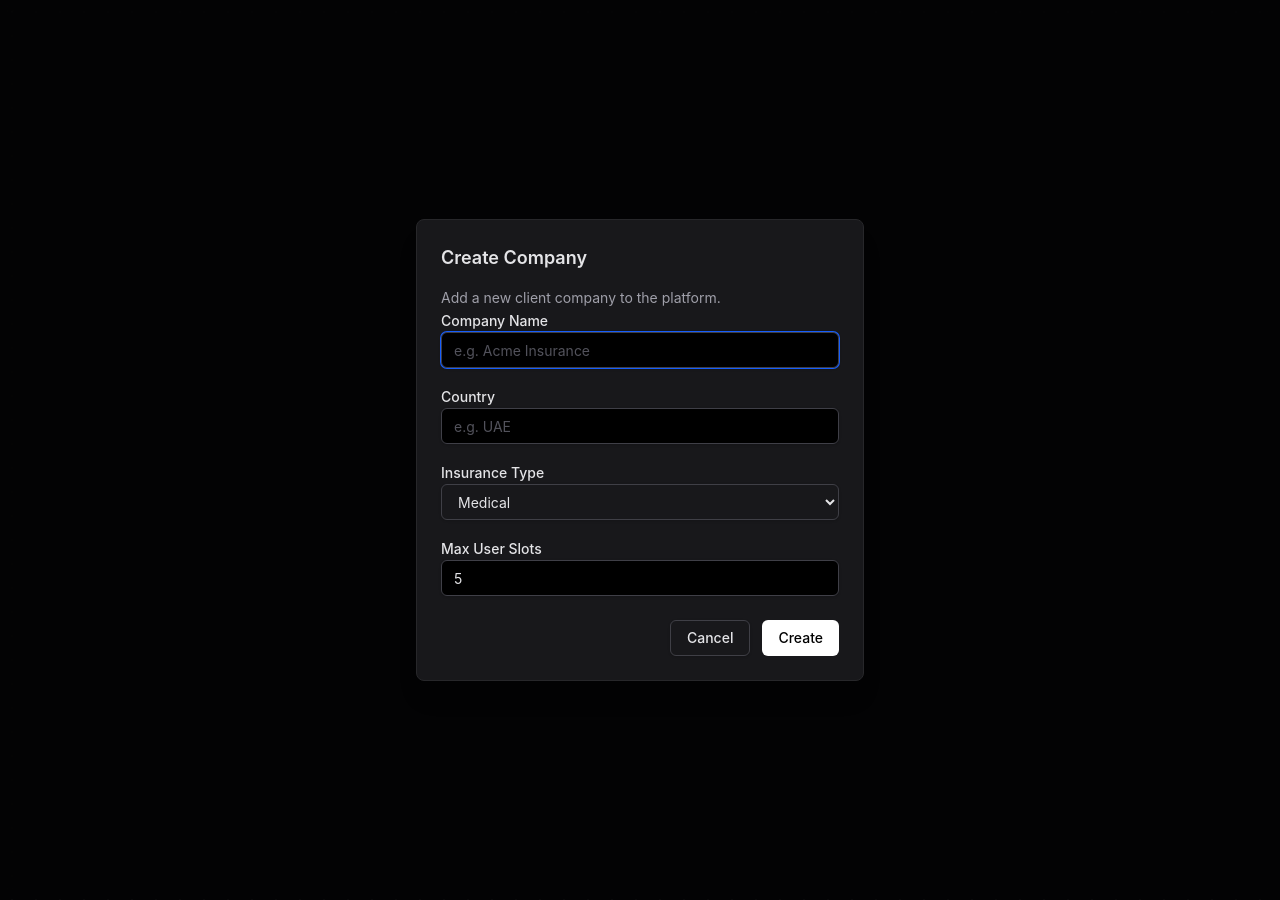
M3-3.E.2 - Admin regression scenarios › Admin dialog lifecycle (CreateCompanyDialog) › does not close dialog on submission failure (stays open for correction)
The image size is (1280, 900).
Type "Test Corp" into the field with placeholder "e.g. Acme Insurance" at (640, 350), box [441,332,839,368]
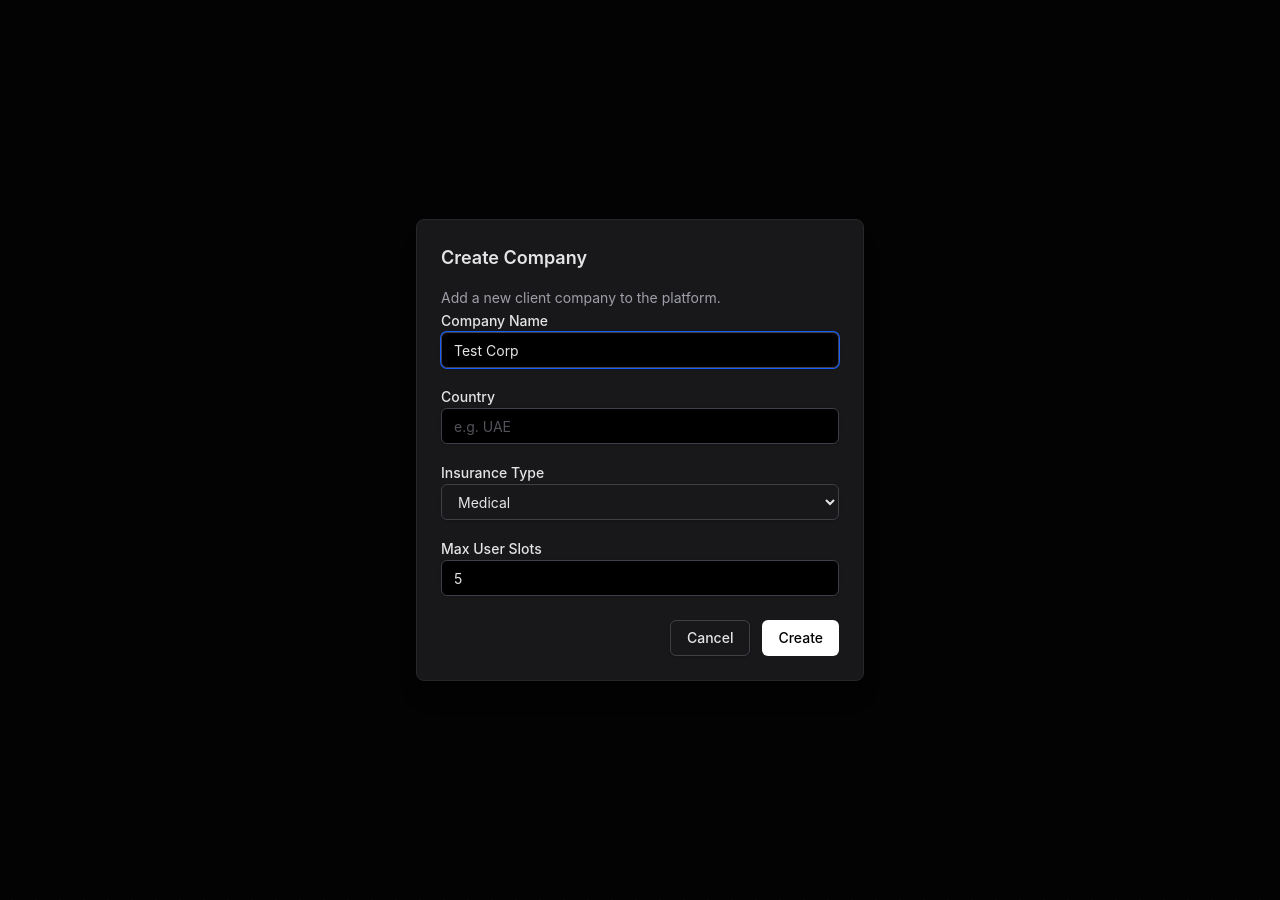
Type "UAE" into the field with placeholder "e.g. UAE" at (640, 426), box [441,408,839,444]
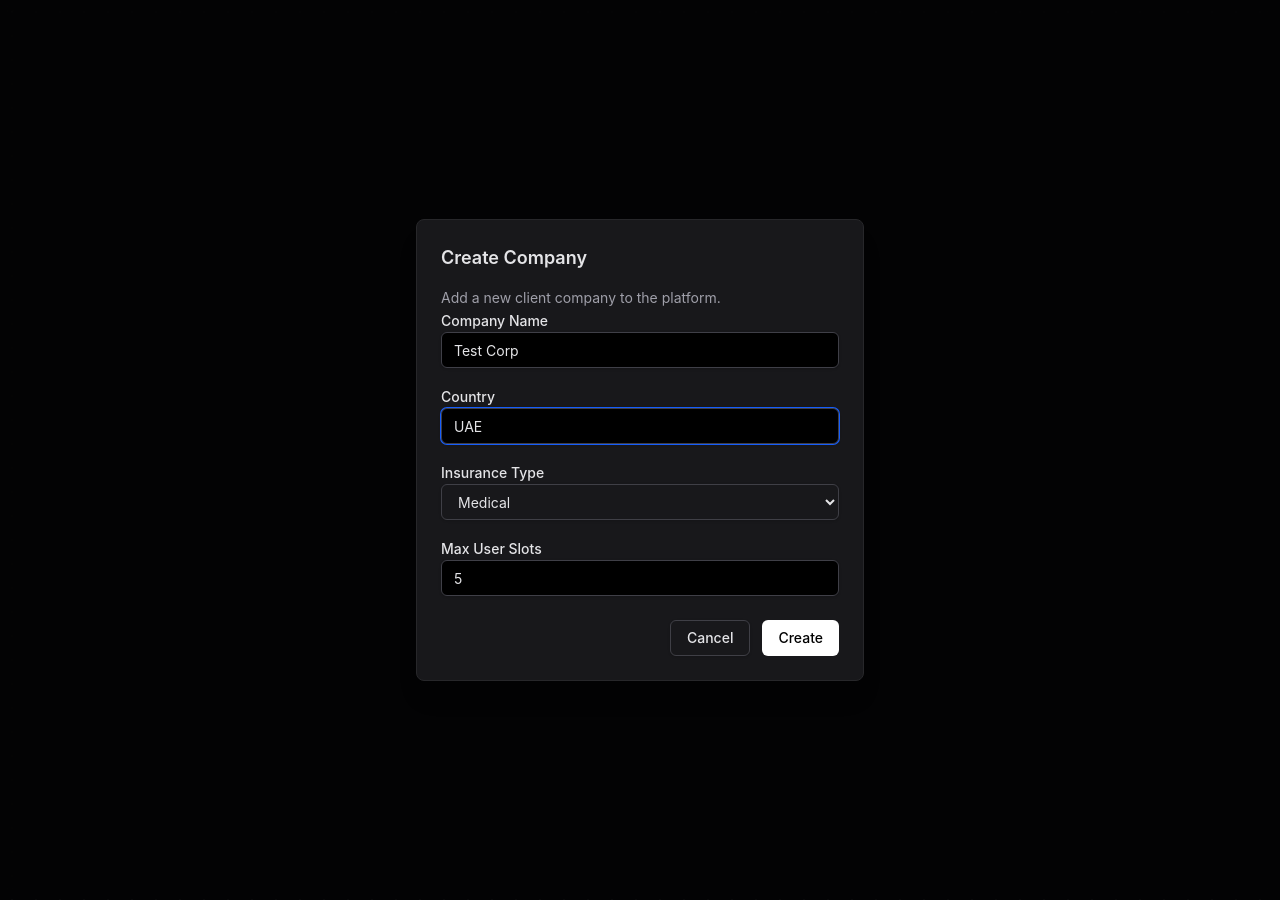
Click the button "Create" at (801, 638), box [762,620,839,656]
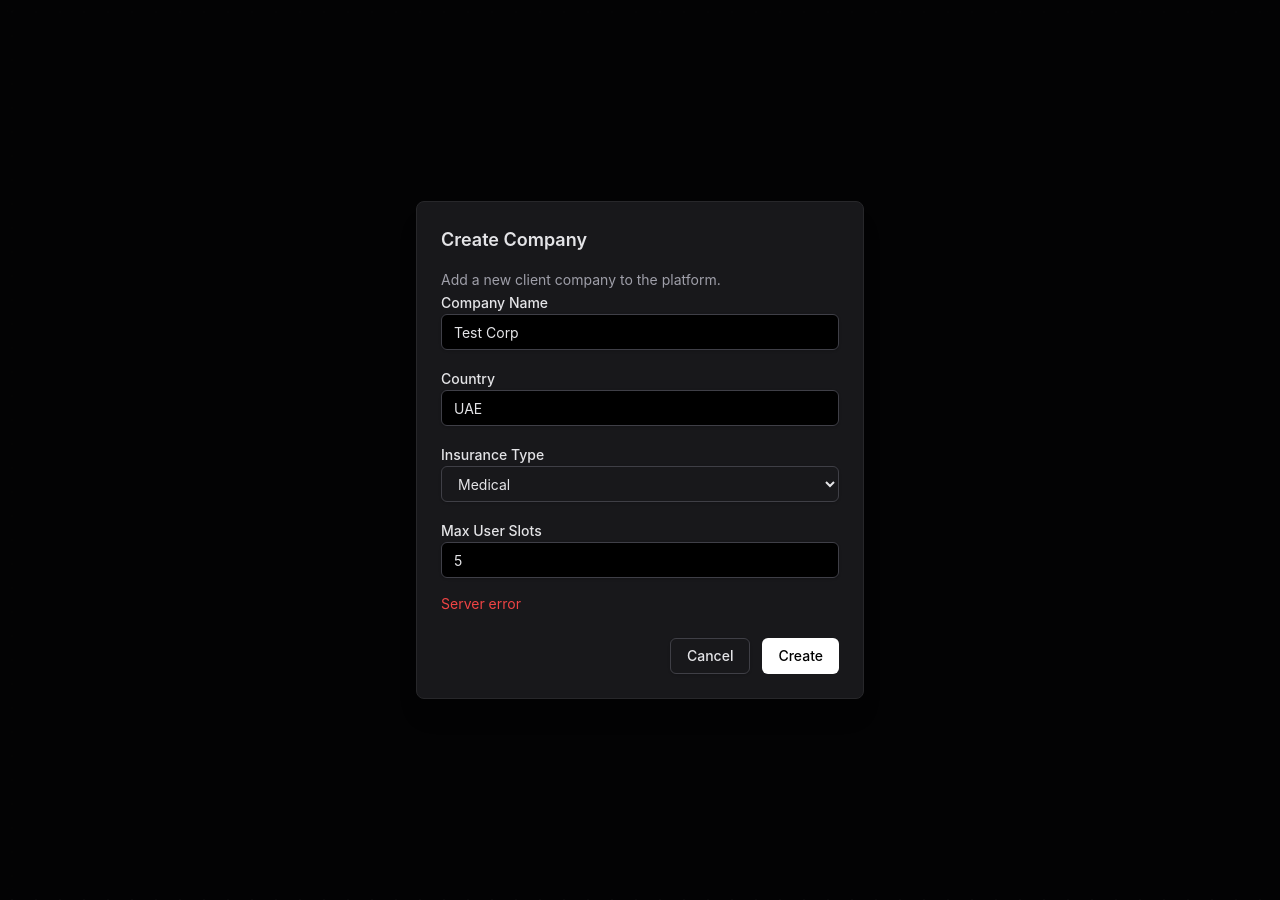
Result: the text "Server error" is shown at [441,595,521,612]
